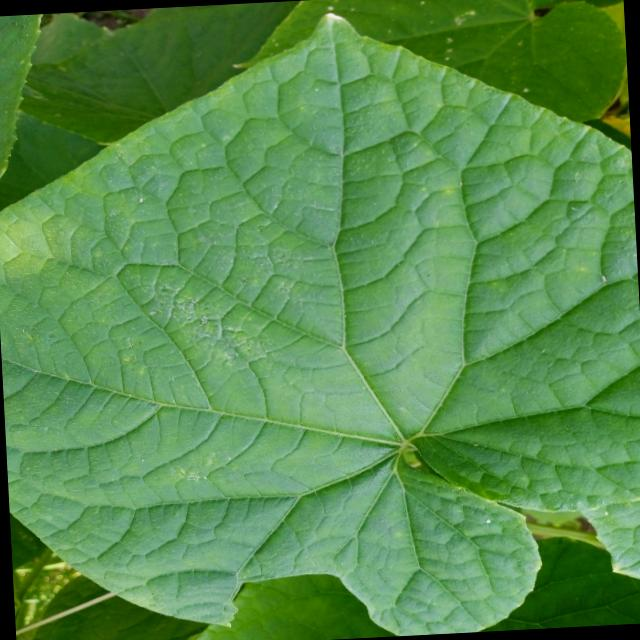cucumber_healthy: (0, 0, 640, 640), (218, 0, 629, 142), (0, 14, 55, 197)
